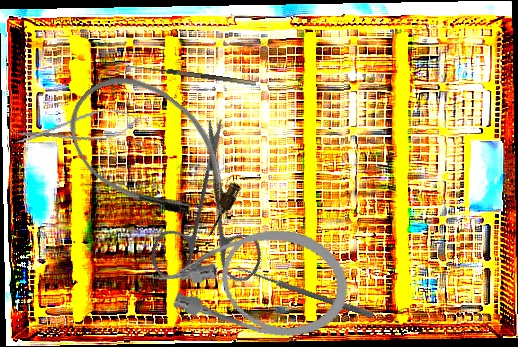Cannula: (48, 53, 263, 256), (139, 208, 358, 347)
Hook Surgical: (124, 62, 257, 93)
Iris Scissors: (104, 113, 313, 322)
Micro Scissor: (12, 103, 142, 154)
Surgical Spoon: (234, 264, 375, 319)
